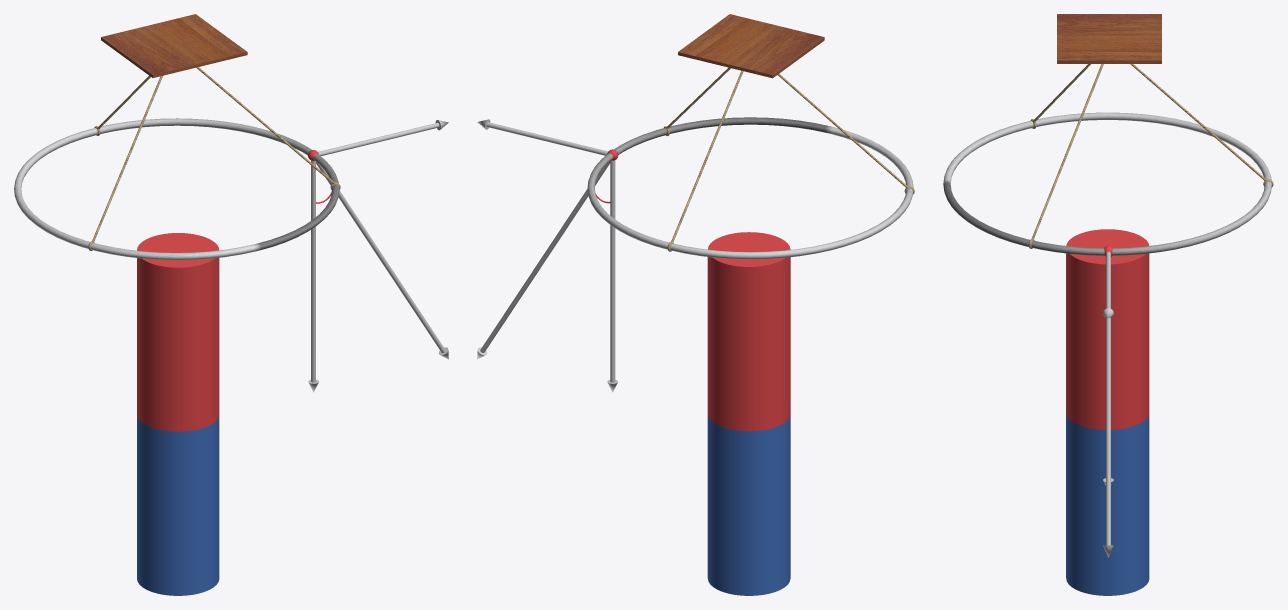
The model's file is xianquan.gltf.
3 renders of one model, left to right at view 1: azimuth 30°, elevation 25°; view 2: azimuth 150°, elevation 25°; view 3: azimuth 270°, elevation 25°, orthographic.
Parts seen in each view (by area): view 1: 对象003, Cylinder001, Line005; view 2: 对象003, Cylinder001, Line005; view 3: 对象003, Cylinder001, Line005.
Part boxes in pixels (x1=…): 对象003: x1=137, y1=233, x2=219, y2=595; Cylinder001: x1=14, y1=14, x2=340, y2=260; Line005: x1=308, y1=120, x2=448, y2=392; 对象003: x1=707, y1=232, x2=790, y2=595; Cylinder001: x1=587, y1=14, x2=914, y2=259; Line005: x1=477, y1=119, x2=617, y2=392; 对象003: x1=1066, y1=229, x2=1149, y2=595; Cylinder001: x1=943, y1=14, x2=1273, y2=255; Line005: x1=1103, y1=251, x2=1113, y2=557.
Bounding box in the file's own units: 163 × 201 × 112.
